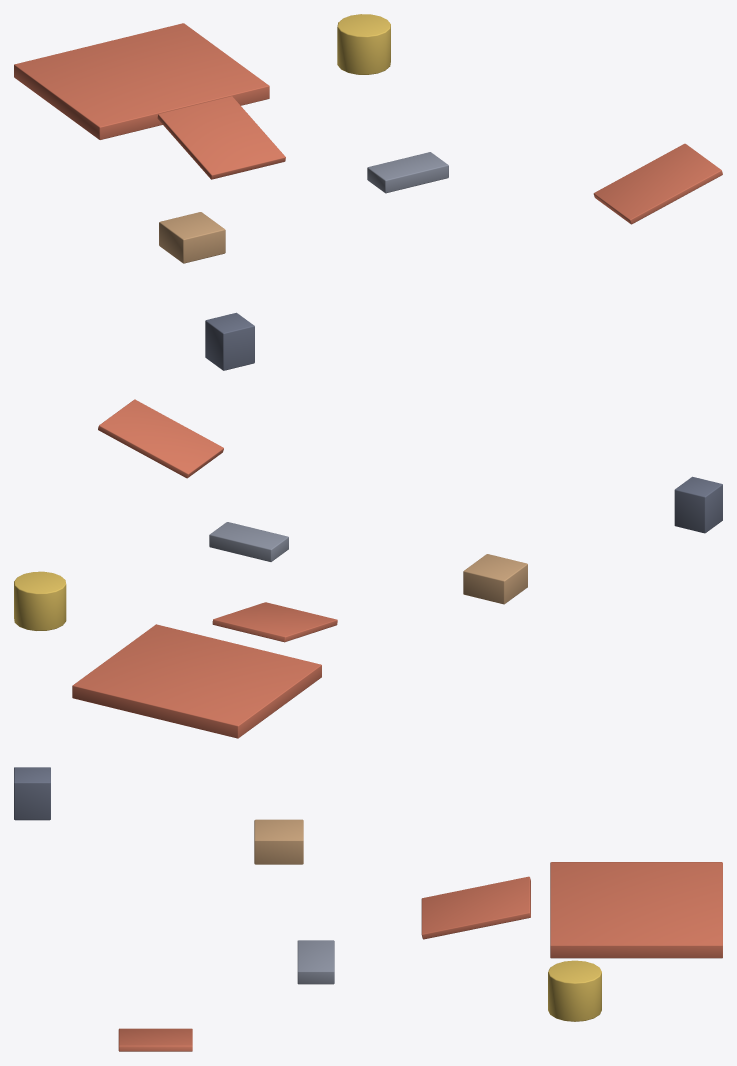
File: world.glb
3 views of the same model, one above another, from view 1: azimuth 30°, elevation 25°; view 2: azimuth 150°, elevation 25°; view 3: azimuth 270°, elevation 25° (orthographic). The views are drawn at different scales.
Parts seen in each view (by area): view 1: ramp_n_landing, ramp_n, ramp_e, exhibit_d, exhibit_a, exhibit_c, exhibit_b; view 2: ramp_n_landing, ramp_e, ramp_n, exhibit_d, exhibit_a, exhibit_c, exhibit_b; view 3: ramp_n_landing, ramp_n, exhibit_d, exhibit_a, exhibit_c, ramp_e, exhibit_b.
Part boxes in pixels (<box>): ramp_n_landing: <box>14,23,269,139</box>; ramp_n: <box>157,96,285,179</box>; ramp_e: <box>593,143,722,224</box>; exhibit_d: <box>337,14,390,74</box>; exhibit_a: <box>159,212,225,263</box>; exhibit_c: <box>205,312,254,370</box>; exhibit_b: <box>367,152,448,193</box>; ramp_n_landing: <box>72,624,321,738</box>; ramp_e: <box>98,399,223,478</box>; ramp_n: <box>212,602,337,642</box>; exhibit_d: <box>14,571,66,630</box>; exhibit_a: <box>463,554,527,604</box>; exhibit_c: <box>674,476,722,533</box>; exhibit_b: <box>209,522,288,561</box>; ramp_n_landing: <box>550,862,722,958</box>; ramp_n: <box>421,876,530,939</box>; exhibit_d: <box>548,960,601,1021</box>; exhibit_a: <box>254,819,303,864</box>; exhibit_c: <box>14,767,50,820</box>; ramp_e: <box>118,1028,192,1051</box>; exhibit_b: <box>297,940,334,984</box>.
Size of what is drawn, in the model's own units: 51.88 by 3.91 by 57.5.
